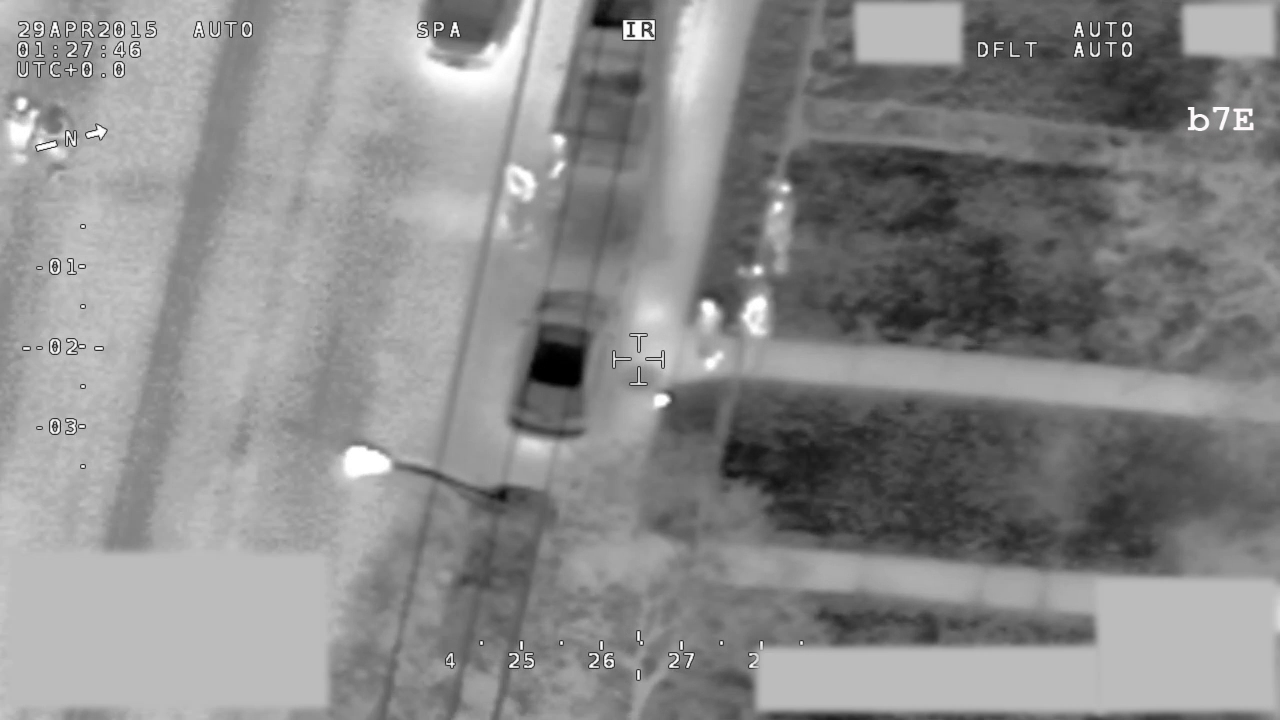vehicle: (548, 1, 692, 172), (437, 489, 552, 697), (507, 287, 622, 445), (415, 1, 530, 75)
